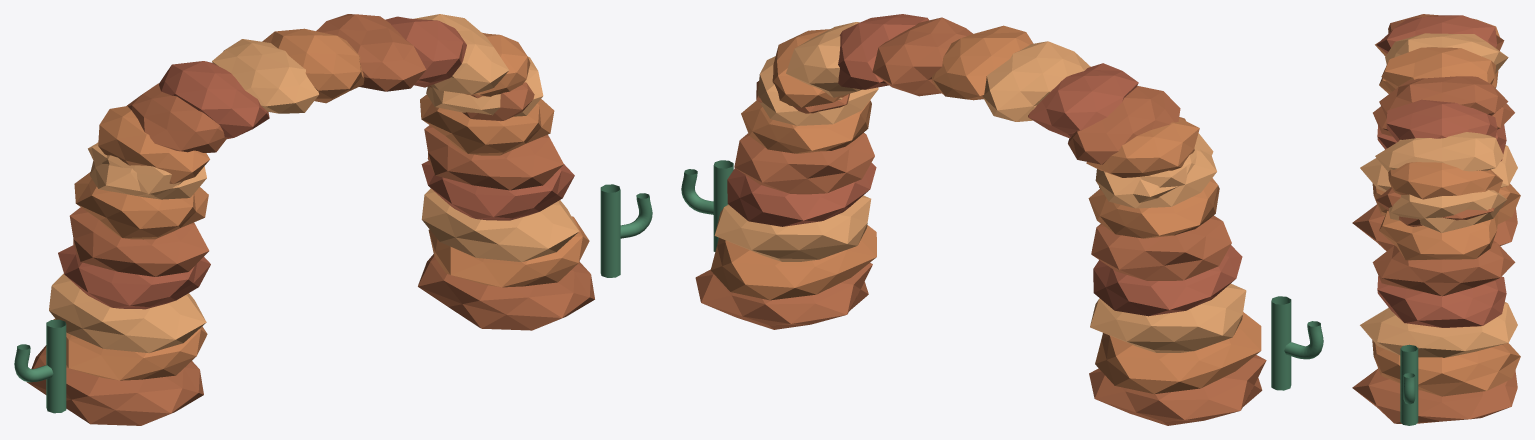
Rendered from landmark-desert.glb.
3 renders of one model, left to right at view 1: azimuth 30°, elevation 25°; view 2: azimuth 150°, elevation 25°; view 3: azimuth 270°, elevation 25°, orthographic. The views are drawn at different scales.
Parts seen in each view (by area): view 1: Landmark_desert_Sandstone0, Landmark_desert_Sandstone1, Landmark_desert_Sandstone2, Landmark_desert_Sandstone3, Landmark_desert_Cactus; view 2: Landmark_desert_Sandstone0, Landmark_desert_Sandstone1, Landmark_desert_Sandstone2, Landmark_desert_Sandstone3, Landmark_desert_Cactus; view 3: Landmark_desert_Sandstone1, Landmark_desert_Sandstone0, Landmark_desert_Sandstone2, Landmark_desert_Sandstone3, Landmark_desert_Cactus.
Part boxes in pixels (x1,y1,x2,y2): Landmark_desert_Sandstone0: [27, 14, 594, 425]; Landmark_desert_Sandstone1: [53, 28, 589, 380]; Landmark_desert_Sandstone2: [49, 14, 579, 352]; Landmark_desert_Sandstone3: [58, 16, 574, 309]; Landmark_desert_Cactus: [14, 184, 652, 413]; Landmark_desert_Sandstone0: [695, 17, 1266, 425]; Landmark_desert_Sandstone1: [710, 25, 1261, 393]; Landmark_desert_Sandstone2: [714, 22, 1246, 352]; Landmark_desert_Sandstone3: [727, 14, 1242, 316]; Landmark_desert_Cactus: [681, 160, 1323, 390]; Landmark_desert_Sandstone1: [1372, 18, 1520, 396]; Landmark_desert_Sandstone0: [1352, 14, 1517, 423]; Landmark_desert_Sandstone2: [1360, 33, 1517, 357]; Landmark_desert_Sandstone3: [1376, 15, 1506, 327]; Landmark_desert_Cactus: [1400, 344, 1418, 425].
Bounding box in the file's own units: 39.08 × 18.74 × 10.39.
